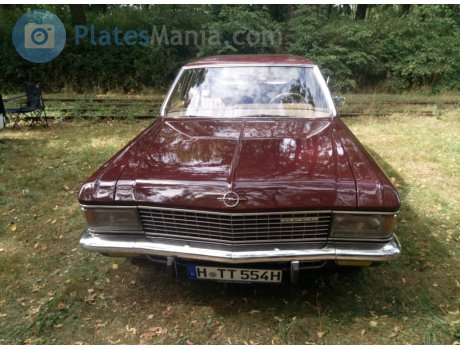License Plates: (202, 266, 282, 279)
